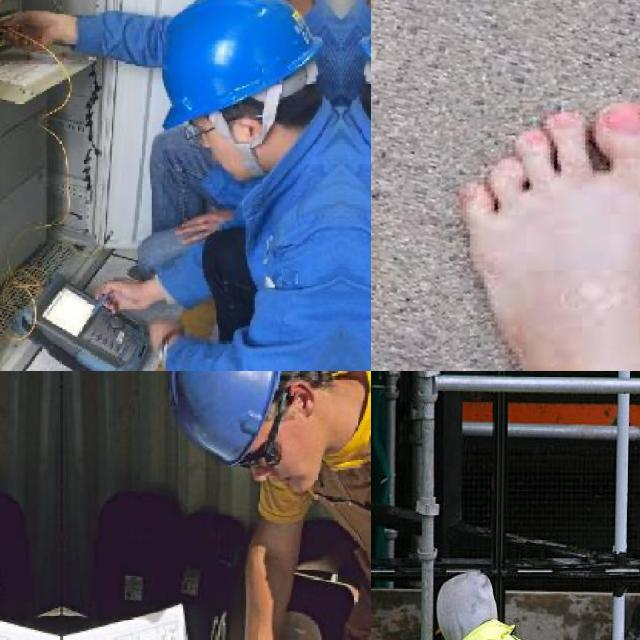Barefoots: (383, 46, 640, 371)
No_Ear-Protection: (280, 377, 323, 423), (238, 117, 265, 141)
face_nomask: (253, 445, 323, 493)
hand_noglove: (10, 10, 75, 46), (98, 279, 166, 311), (175, 210, 234, 245), (151, 320, 180, 350)
head_helmet: (162, 0, 320, 129), (171, 371, 280, 465)
